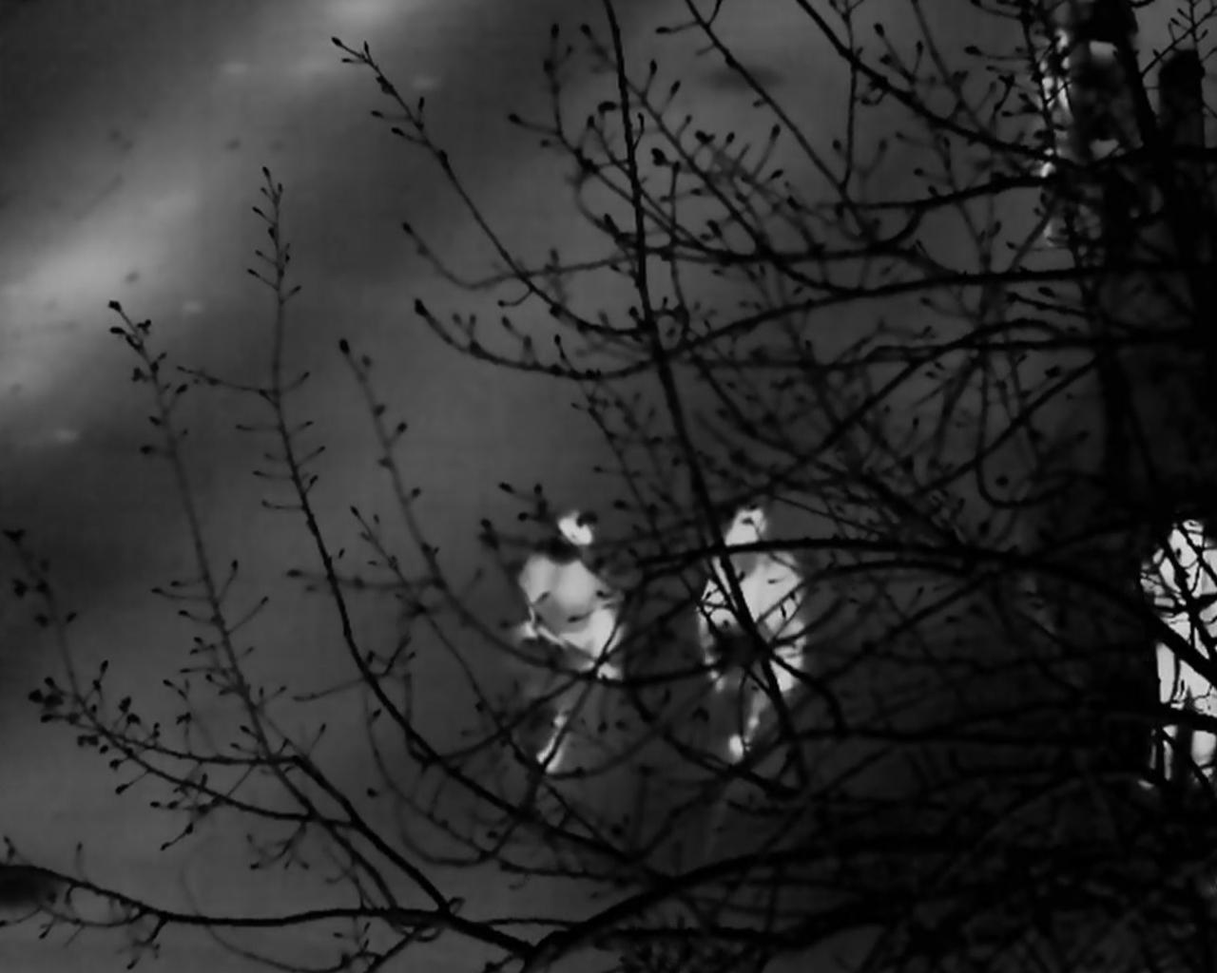person: (711, 497, 811, 746), (1142, 518, 1217, 785), (534, 519, 622, 731)
